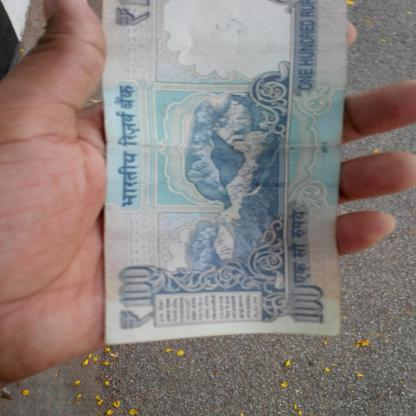Old100Back: (101, 0, 350, 346)
